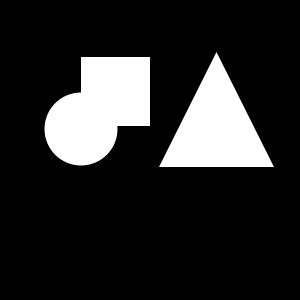circle: (81, 57, 150, 126)
rectangle: (44, 92, 118, 166)
triangle: (159, 52, 274, 167)
